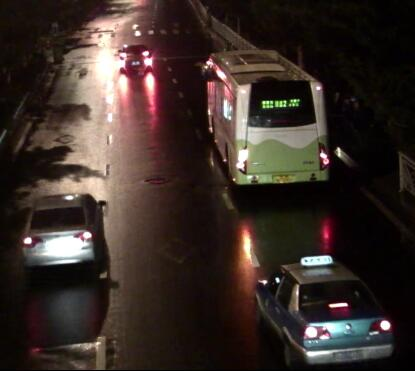bus: (198, 46, 330, 186)
car: (255, 256, 395, 369), (19, 193, 108, 271), (113, 44, 154, 76)
